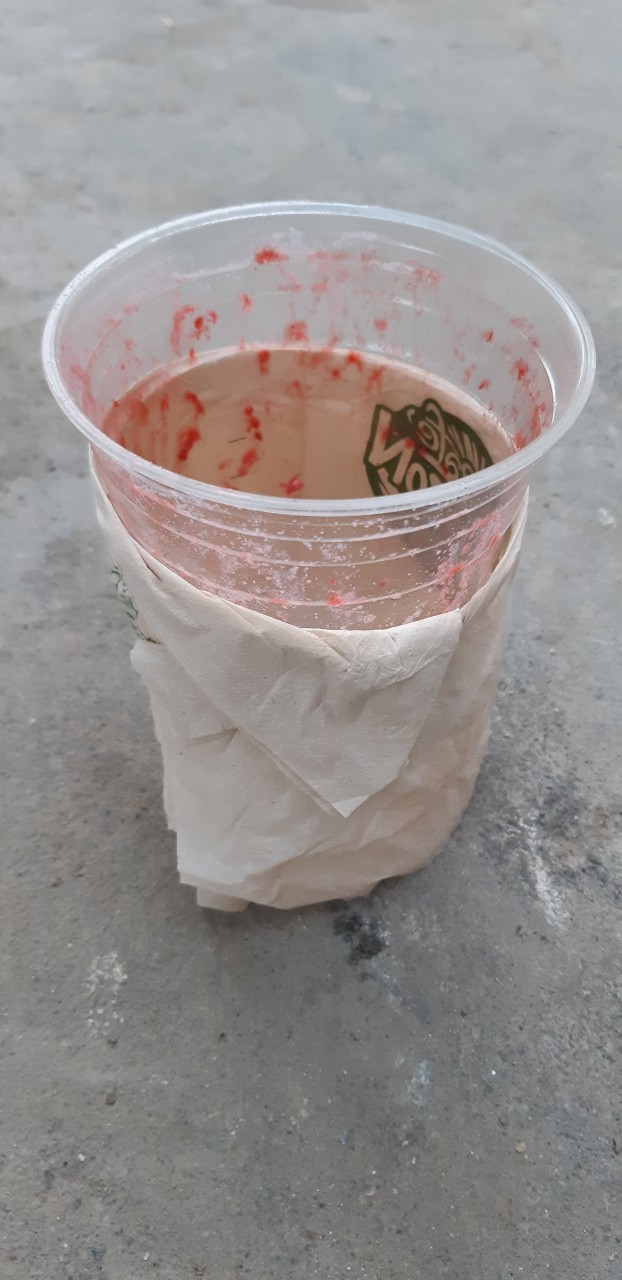PlasticCup: (39, 192, 590, 908)
